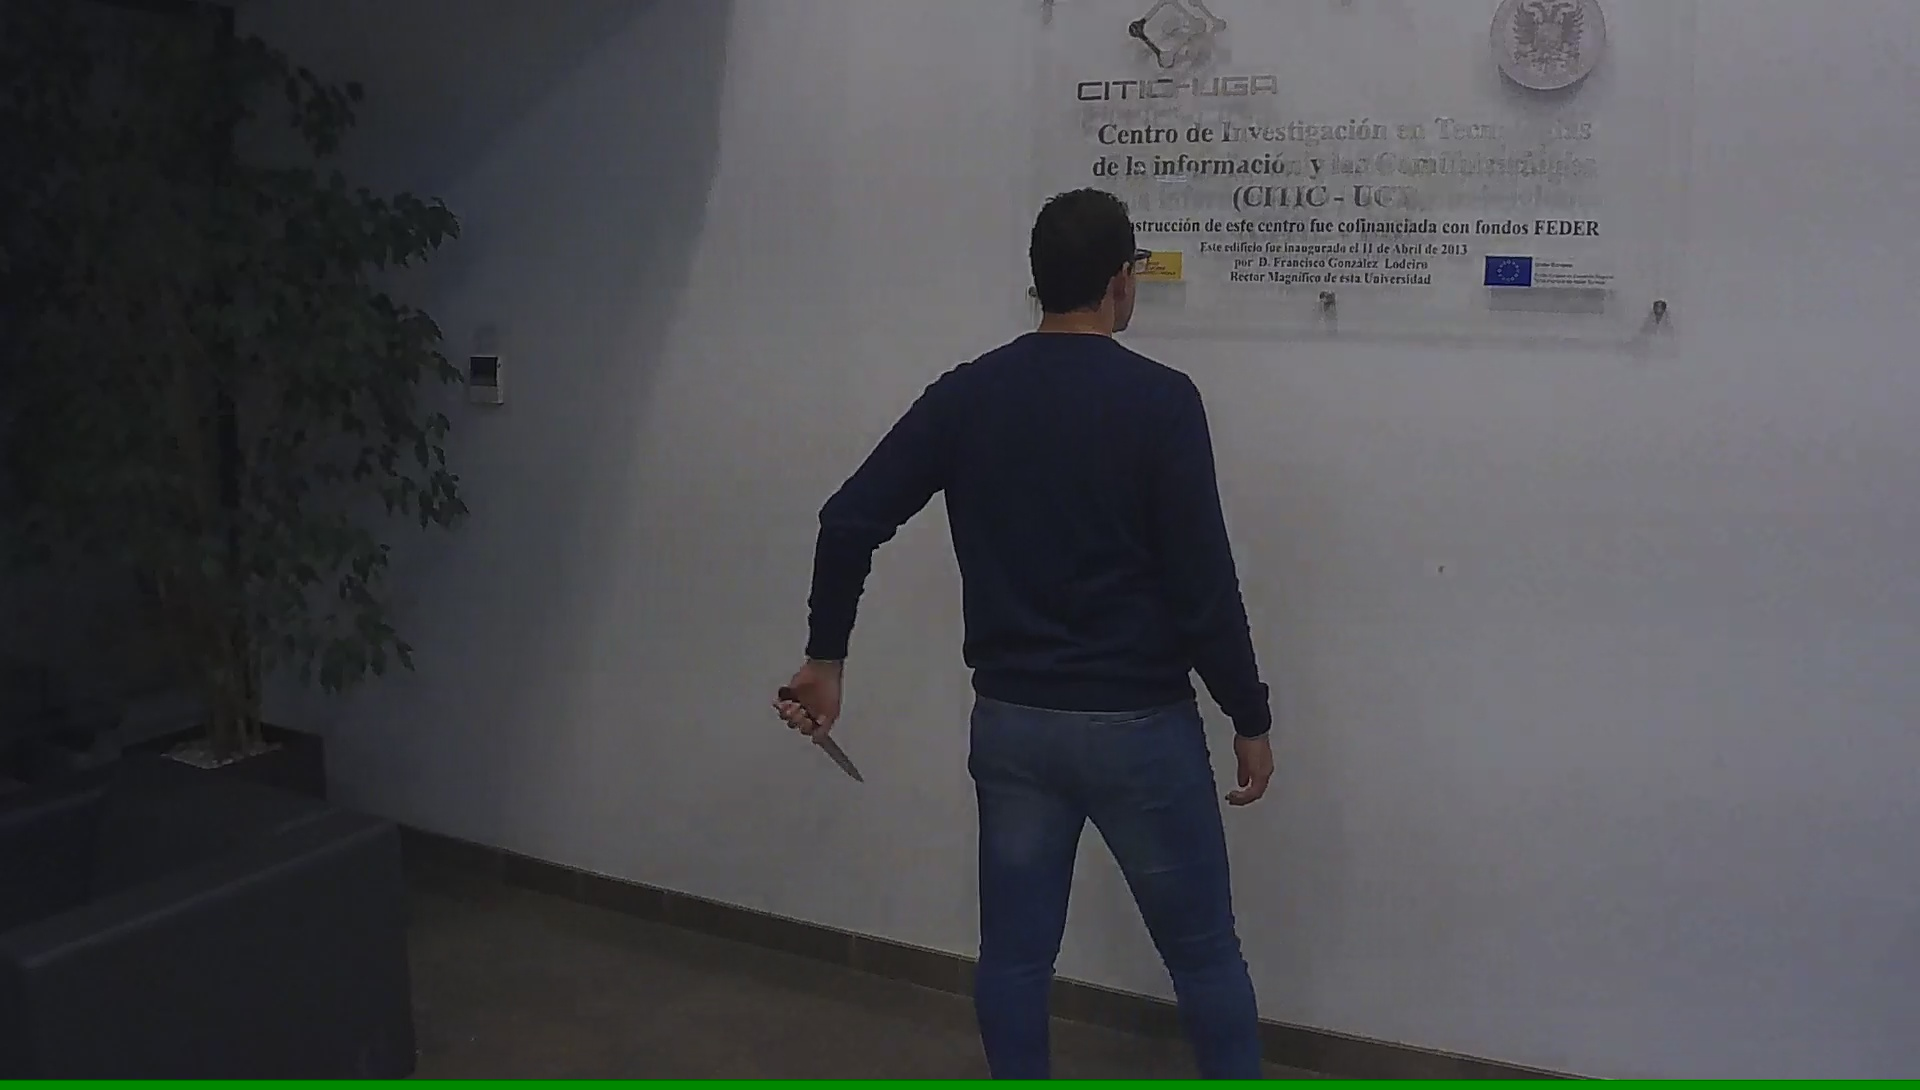knife: (767, 681, 874, 791)
